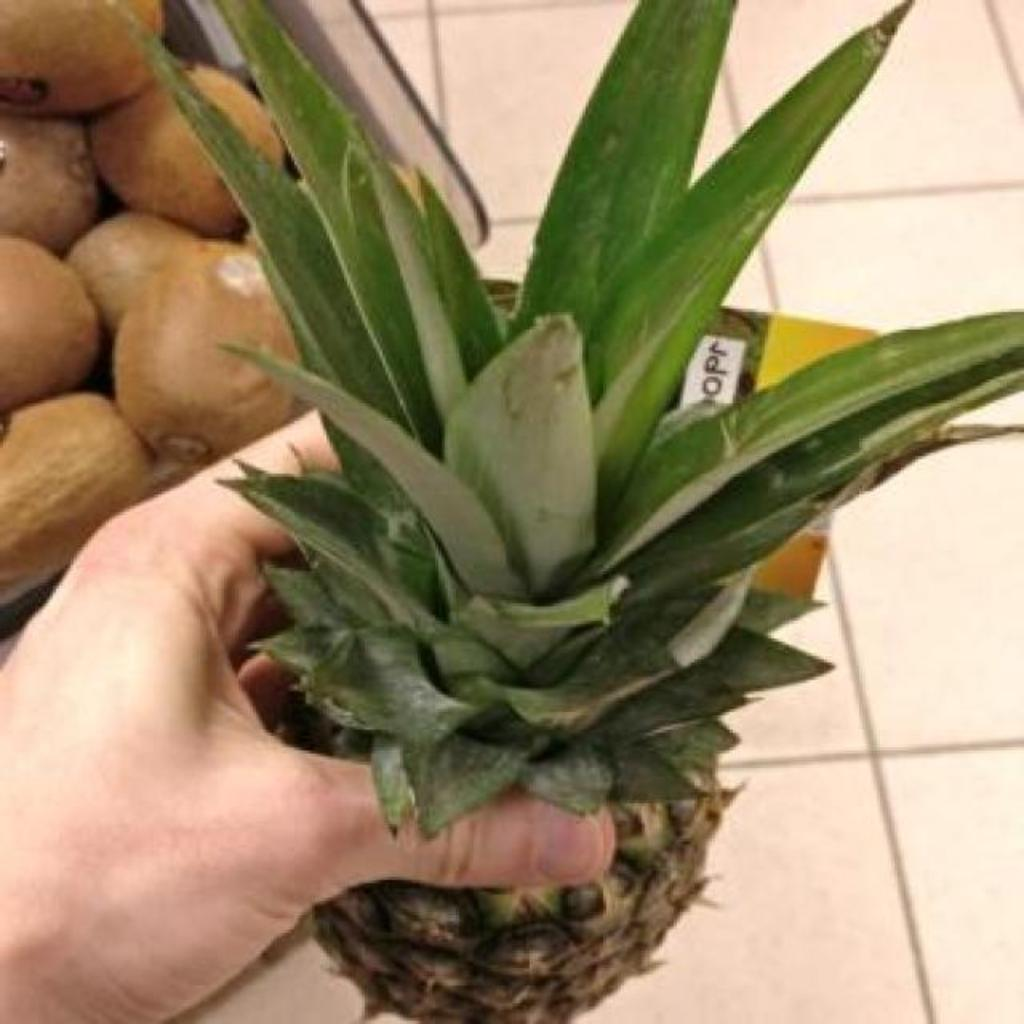pineapple: (156, 0, 1024, 1024)
